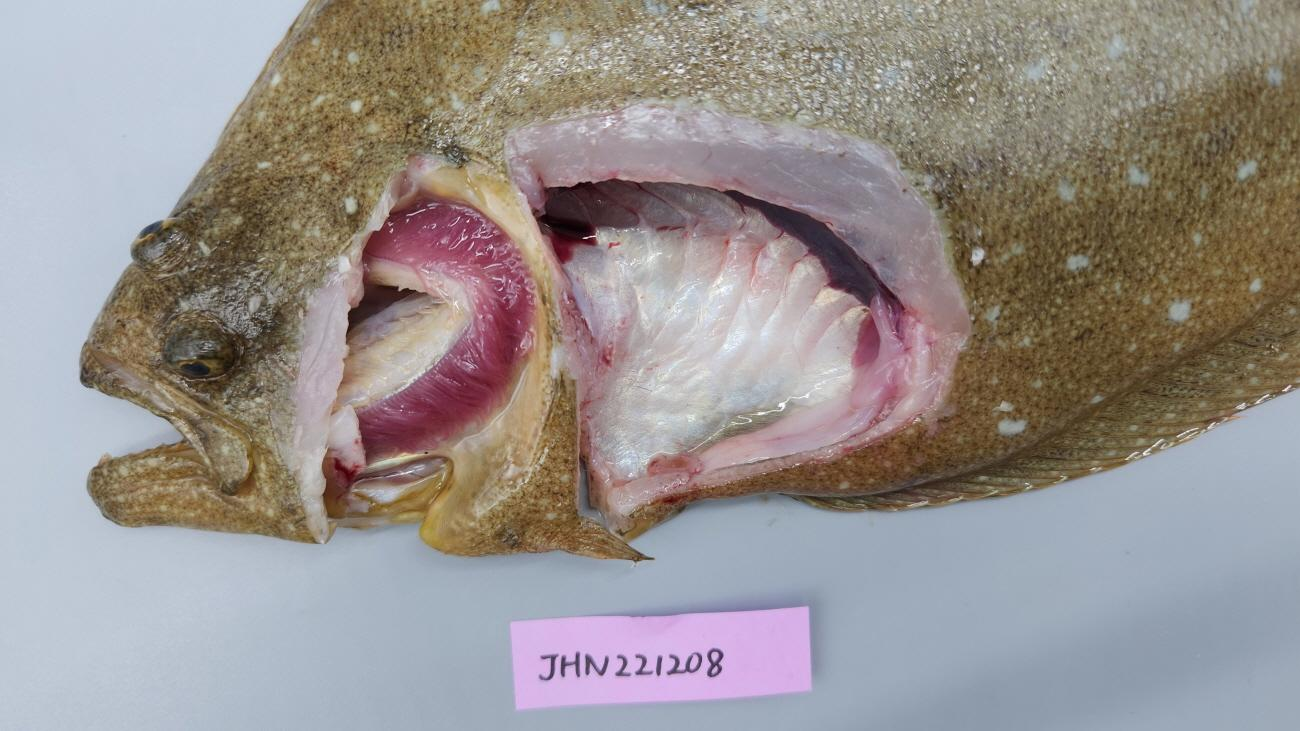POASN: (537, 178, 869, 482)
POREN: (607, 294, 965, 513)
